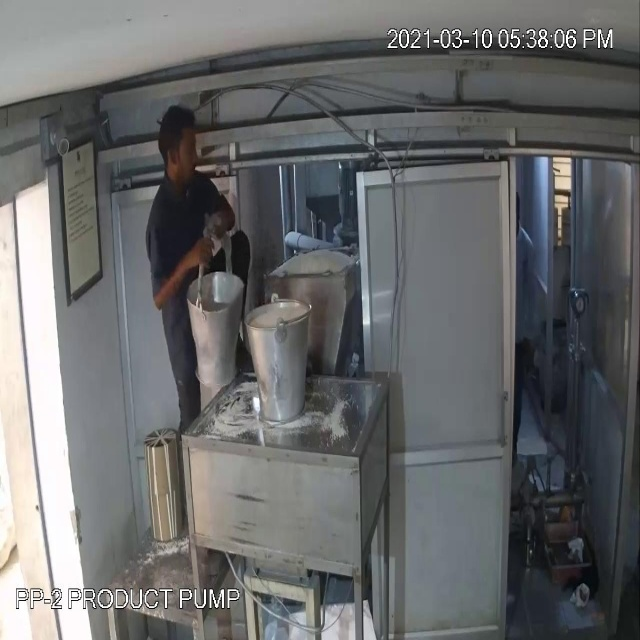Sin_guantes: (146, 241, 216, 317)
